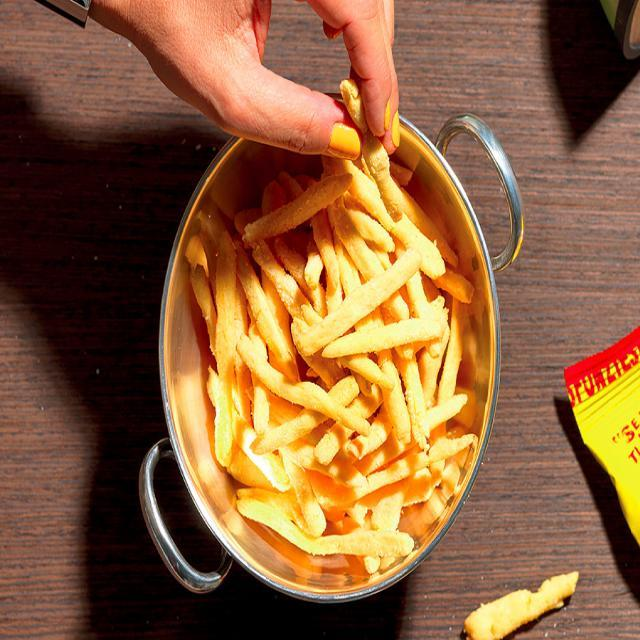Chips packaged: (201, 187, 455, 565)
